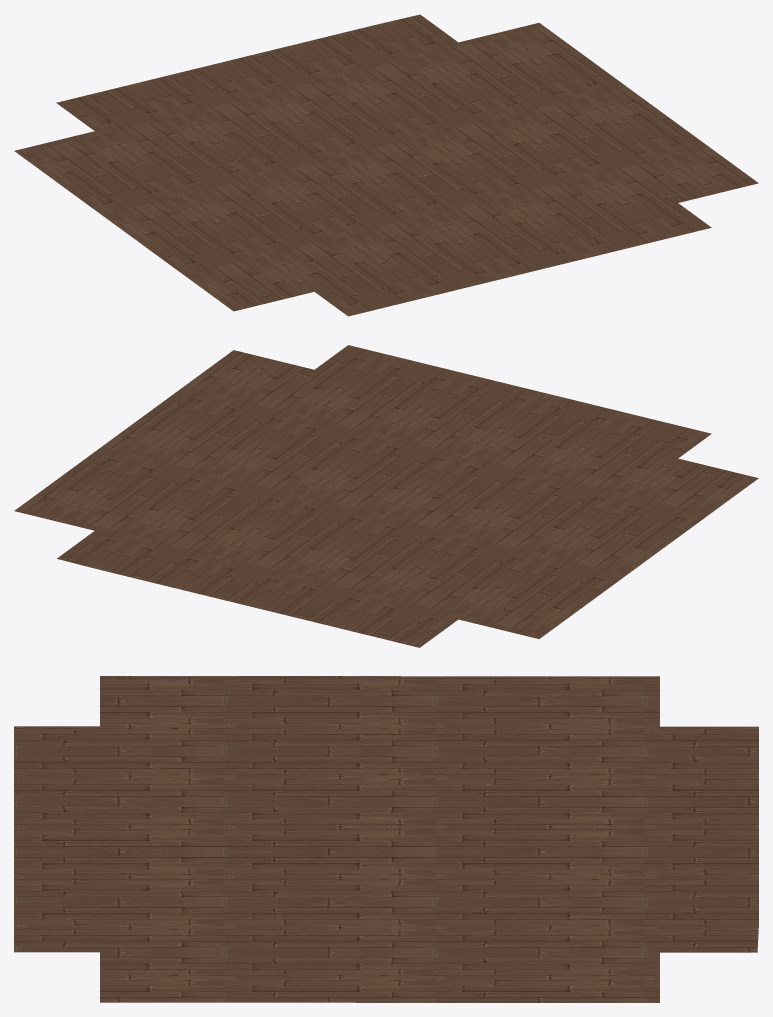
The model's file is Item_3001_wujian002_mudibian.FBX.
The picture shows the model from 3 angles, top to bottom: view 1: azimuth 30°, elevation 25°; view 2: azimuth 150°, elevation 25°; view 3: azimuth 270°, elevation 25°; orthographic projection. The views are drawn at different scales.
Parts seen in each view (by area): view 1: Item_3001_wujian002_mudibian; view 2: Item_3001_wujian002_mudibian; view 3: Item_3001_wujian002_mudibian.
Part boxes in pixels (<box>): Item_3001_wujian002_mudibian: <box>14,14,758,316</box>; Item_3001_wujian002_mudibian: <box>14,345,758,647</box>; Item_3001_wujian002_mudibian: <box>14,676,758,1002</box>.
Bounding box in the file's own units: 2292 × 1.08 × 2209.
